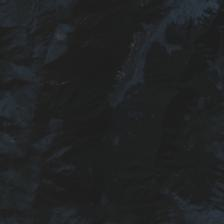landslides: (45, 81, 68, 87)
